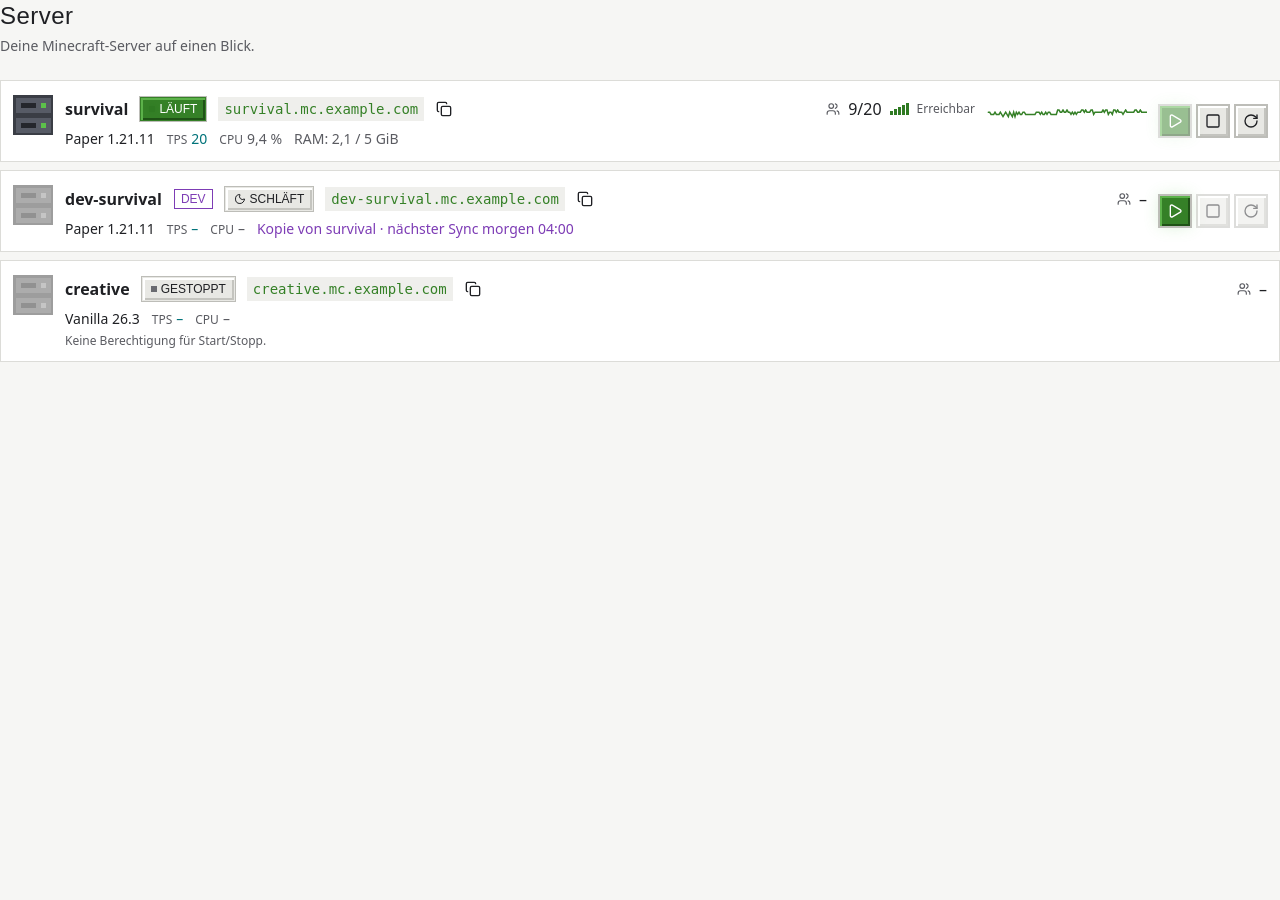
Test: DashboardPage › asks for confirmation before stopping a server
The image size is (1280, 900).
Click the button named "Stoppen" in the row of "Erreichbar" at (1213,121), box [1197,105,1229,137]
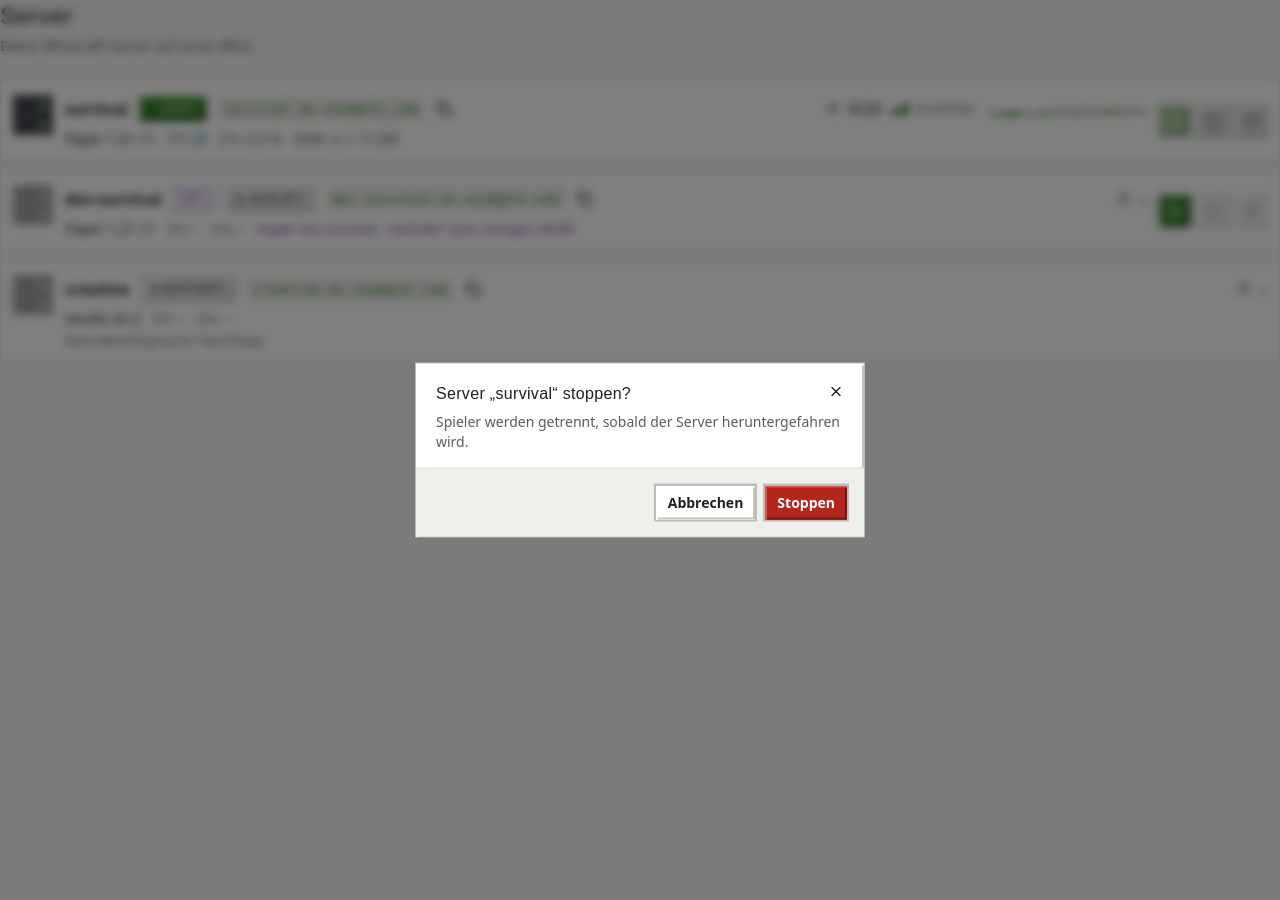
Expected: the text "Stopp für „survival“ angefordert." is not shown
Click the button "Stoppen" at (806,502), box [764,484,848,520]
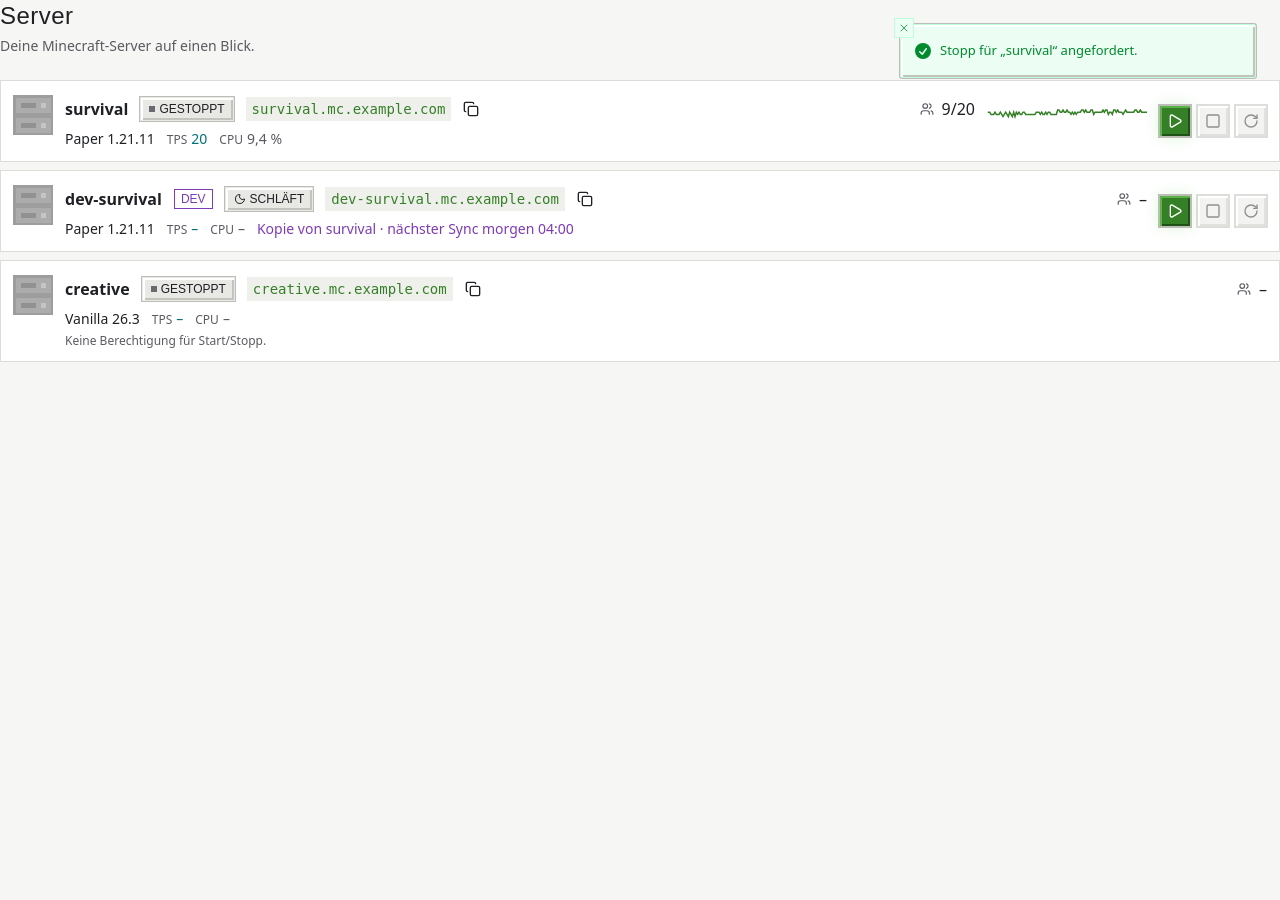
Result: the text "Stopp für „survival“ angefordert." is shown at [940,41,1138,60]
Result: the heading "Server „survival“ stoppen?" is gone
